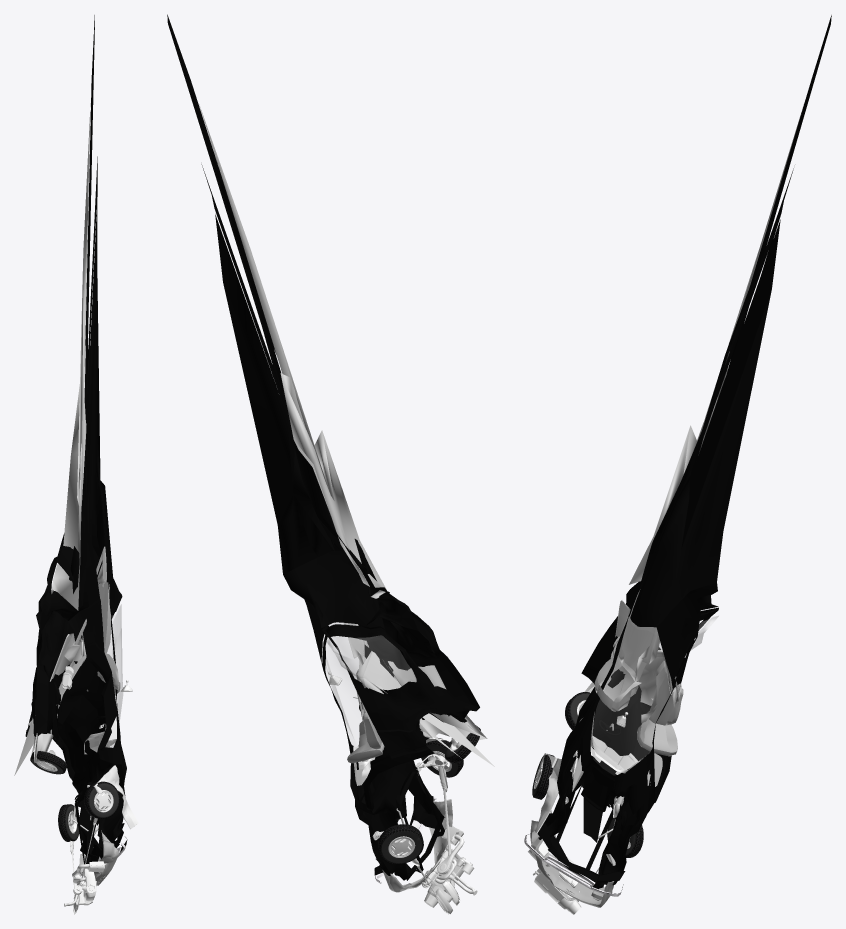
Rendered from crash_11.fbx.
The picture shows the model from 3 angles, left to right: view 1: azimuth 30°, elevation 25°; view 2: azimuth 150°, elevation 25°; view 3: azimuth 270°, elevation 25°; orthographic projection. The views are drawn at different scales.
Visible parts, largest first — view 1: Mesh_0521_rip1, Mesh_0456_rip, Mesh_0459_rip, Mesh_0728_rip, Mesh_0538_rip.002, Mesh_0687_rip, Mesh_0503_rip, Mesh_0630_rip1, Mesh_0538_rip.000, Mesh_0538_rip.001, Mesh_0461_rip, Mesh_0482_rip (+1 smaller); view 2: Mesh_0521_rip1, Mesh_0456_rip, Mesh_0736_rip, Mesh_0728_rip, Mesh_0586_rip1, Mesh_0687_rip, Mesh_0538_rip.000, spin_thing, Mesh_0630_rip1; view 3: Mesh_0521_rip1, Mesh_0728_rip, Mesh_0459_rip, Mesh_0586_rip1, Mesh_0687_rip, Mesh_0461_rip, Mesh_0456_rip, Mesh_0503_rip, Mesh_0714_rip1.
Boxes of the visible parts, left/top/right/bottom form: Mesh_0521_rip1: left=25, top=15, right=126, bottom=868; Mesh_0456_rip: left=14, top=619, right=86, bottom=775; Mesh_0459_rip: left=86, top=546, right=120, bottom=695; Mesh_0728_rip: left=107, top=604, right=123, bottom=747; Mesh_0538_rip.002: left=84, top=781, right=119, bottom=818; Mesh_0687_rip: left=79, top=830, right=119, bottom=885; Mesh_0503_rip: left=93, top=765, right=138, bottom=829; Mesh_0630_rip1: left=72, top=868, right=96, bottom=902; Mesh_0538_rip.000: left=58, top=804, right=79, bottom=841; Mesh_0538_rip.001: left=30, top=751, right=67, bottom=774; Mesh_0461_rip: left=84, top=716, right=119, bottom=754; Mesh_0482_rip: left=94, top=790, right=113, bottom=812; Mesh_0521_rip1: left=167, top=14, right=479, bottom=880; Mesh_0456_rip: left=357, top=651, right=494, bottom=766; Mesh_0736_rip: left=326, top=635, right=415, bottom=689; Mesh_0728_rip: left=322, top=622, right=361, bottom=747; Mesh_0586_rip1: left=347, top=669, right=384, bottom=763; Mesh_0687_rip: left=382, top=799, right=452, bottom=892; Mesh_0538_rip.000: left=378, top=824, right=423, bottom=863; spin_thing: left=411, top=766, right=459, bottom=914; Mesh_0630_rip1: left=424, top=846, right=474, bottom=892; Mesh_0521_rip1: left=535, top=15, right=831, bottom=889; Mesh_0728_rip: left=591, top=620, right=672, bottom=774; Mesh_0459_rip: left=594, top=589, right=659, bottom=711; Mesh_0586_rip1: left=637, top=660, right=683, bottom=756; Mesh_0687_rip: left=530, top=820, right=613, bottom=907; Mesh_0461_rip: left=579, top=712, right=662, bottom=786; Mesh_0456_rip: left=584, top=600, right=668, bottom=705; Mesh_0503_rip: left=535, top=753, right=561, bottom=833; Mesh_0714_rip1: left=524, top=834, right=623, bottom=896.
Bounding box in the file's own units: 5.62 × 24.16 × 6.91.
6 materials, 1 textured.
